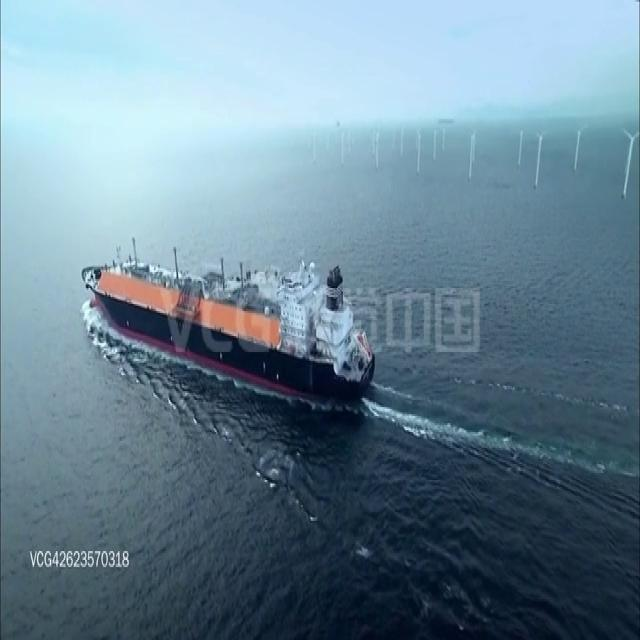cargoship: (85, 240, 373, 402)
